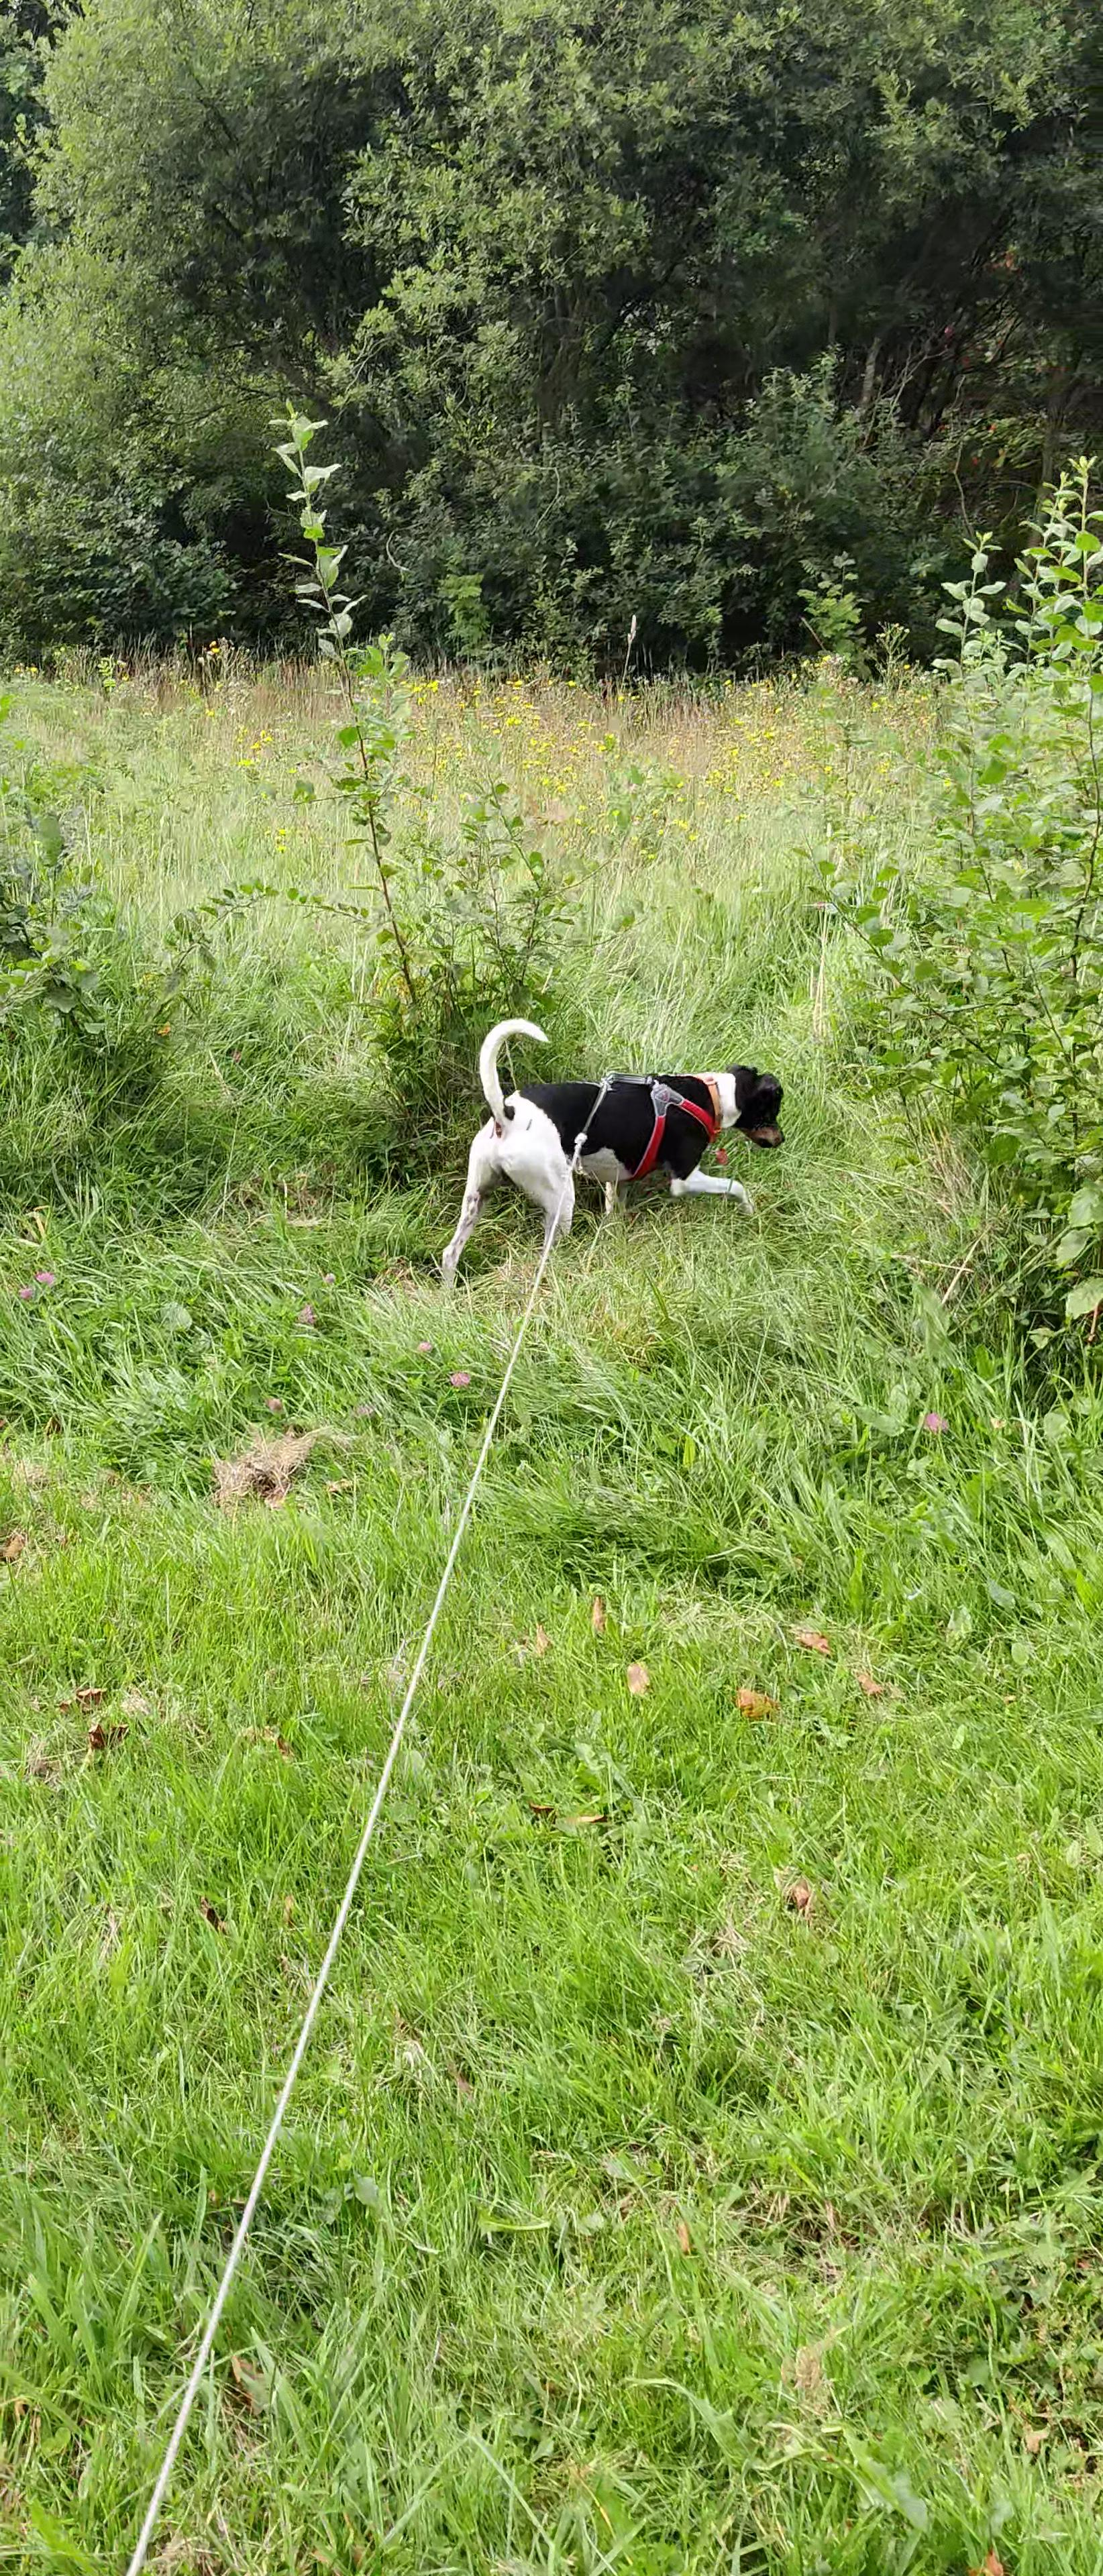Dog: (431, 1017, 789, 1291)
